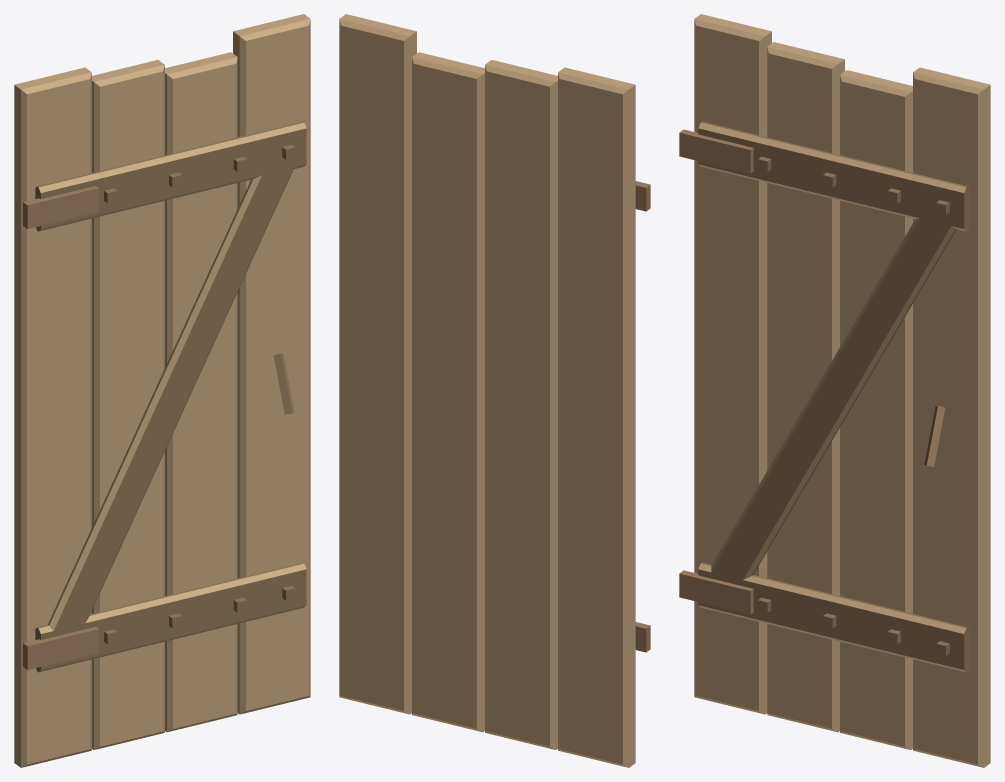
File: door.glb
The picture shows the model from 3 angles, left to right: view 1: azimuth 30°, elevation 25°; view 2: azimuth 150°, elevation 25°; view 3: azimuth 330°, elevation 25°; orthographic projection.
Parts seen in each view (by area): view 1: door; view 2: door; view 3: door.
Part boxes in pixels (<box>): door: <box>14,14,310,767</box>; door: <box>339,14,650,767</box>; door: <box>679,14,990,767</box>.
Size of the model in its own units: 0.907 by 2 by 0.1519.
